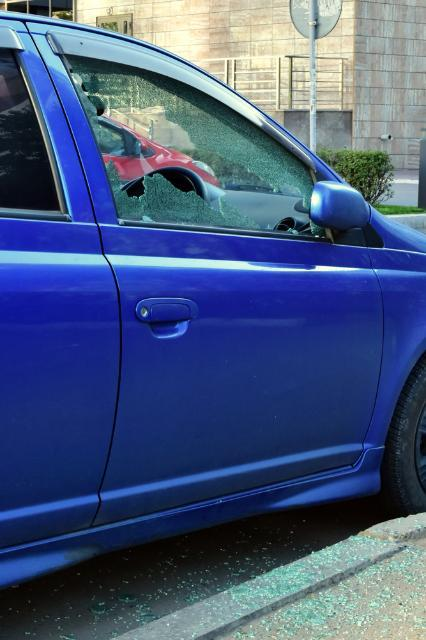glass shatter: (61, 58, 321, 236)
